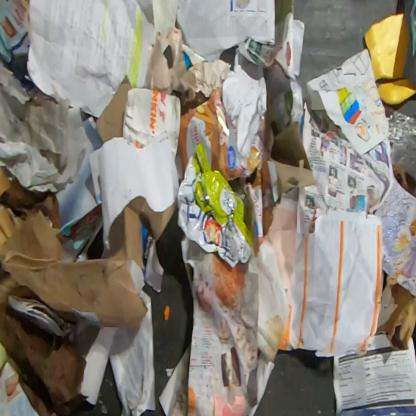cardboard: (0, 166, 149, 342), (105, 197, 177, 294), (363, 13, 415, 106), (122, 86, 181, 163), (374, 274, 415, 347), (95, 74, 132, 144)
soft_plastic: (175, 143, 256, 269), (178, 87, 266, 182), (221, 64, 268, 158), (238, 158, 265, 256)
